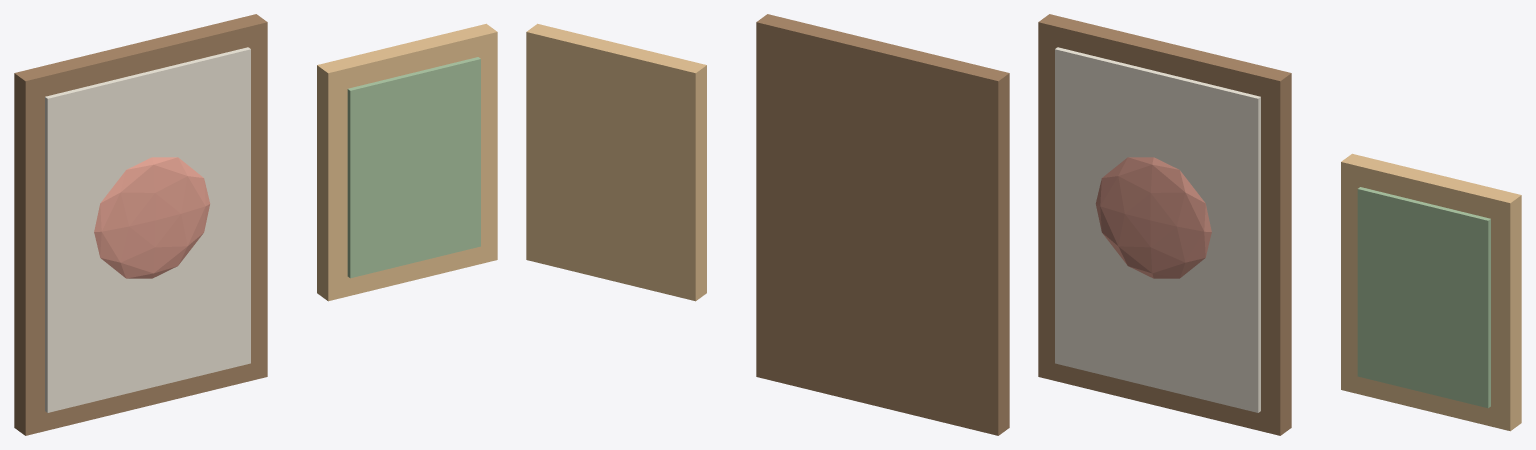
File: cozy-home-interiors-wall-art-frames-7362db9c.glb
3 views of the same model, side by side, from view 1: azimuth 30°, elevation 25°; view 2: azimuth 150°, elevation 25°; view 3: azimuth 330°, elevation 25° (orthographic).
Visible parts, largest first — view 1: wall-art-frames; view 2: wall-art-frames; view 3: wall-art-frames.
Boxes of the visible parts, bbox=[...] form: wall-art-frames: bbox=[14, 14, 497, 435]; wall-art-frames: bbox=[526, 14, 1009, 435]; wall-art-frames: bbox=[1038, 14, 1521, 435].
Bounding box in the file's own units: 0.975 × 0.7 × 0.072.
